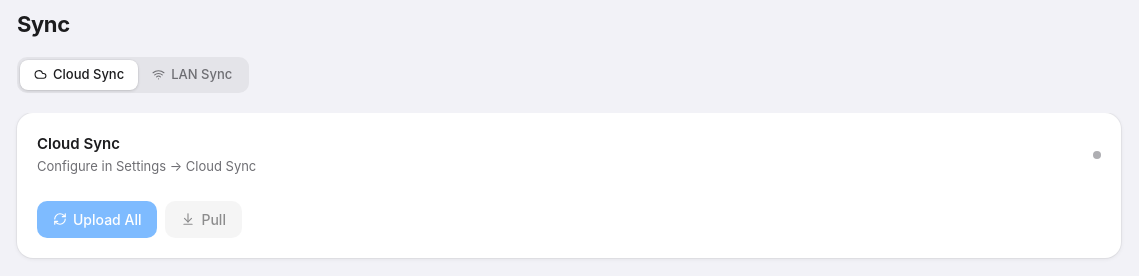
Test case: Sync › switches to LAN panel on tab click
Click the button "LAN Sync" at (192, 75), box x1=138 y1=60 x2=246 y2=90
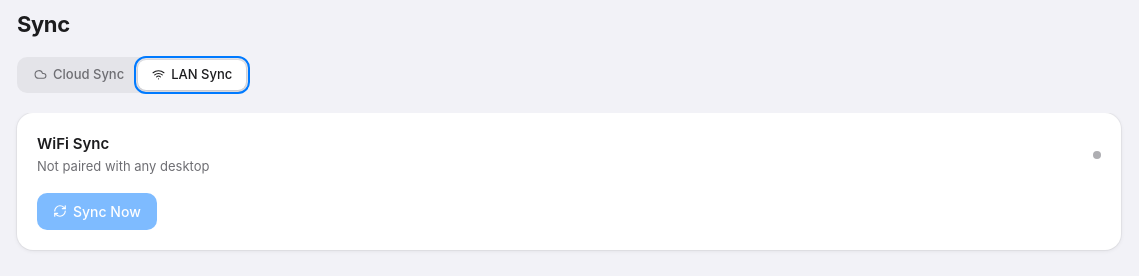
Now the heading "WiFi Sync" is shown, box x1=37 y1=134 x2=109 y2=152
